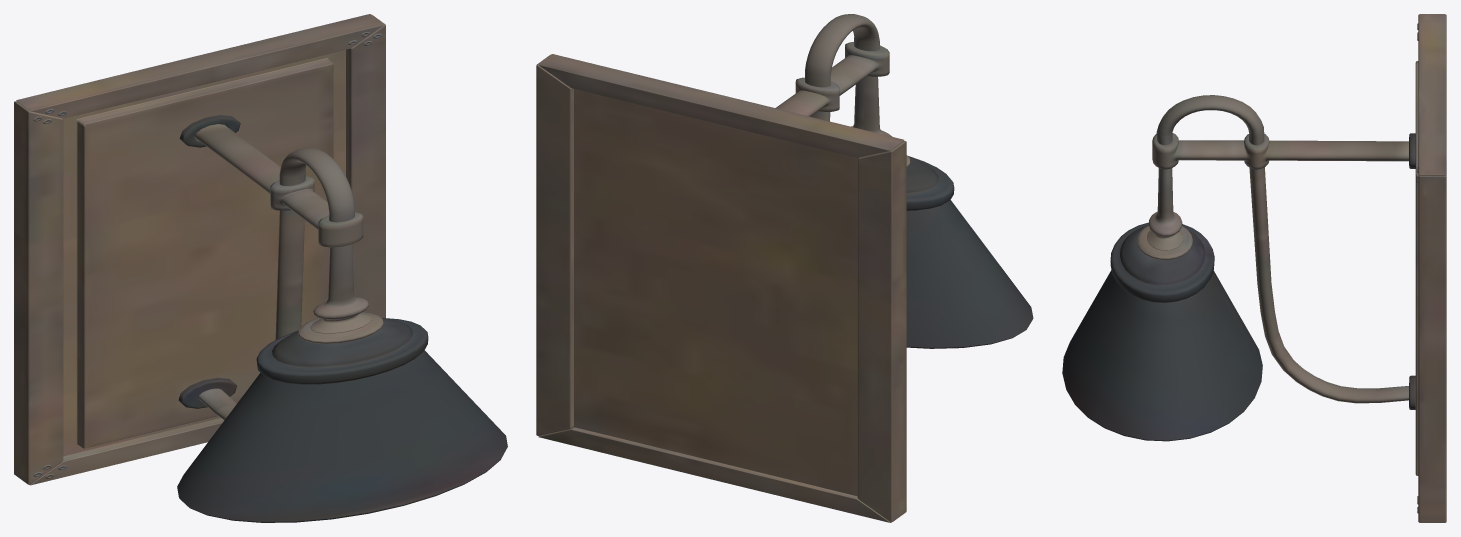
Rendered from ph-industrial-wall-sconce.glb.
3 renders of one model, left to right at view 1: azimuth 30°, elevation 25°; view 2: azimuth 150°, elevation 25°; view 3: azimuth 270°, elevation 25°, orthographic. The views are drawn at different scales.
Visible parts, largest first — view 1: industrial_wall_sconce; view 2: industrial_wall_sconce; view 3: industrial_wall_sconce.
Boxes of the visible parts, box(x1,y1,x2,y2) form: industrial_wall_sconce: box(14, 14, 507, 522); industrial_wall_sconce: box(536, 14, 1033, 522); industrial_wall_sconce: box(1062, 14, 1446, 522).
Size of the model in its own units: 1 by 1 by 1.
2 materials, 2 textured.
